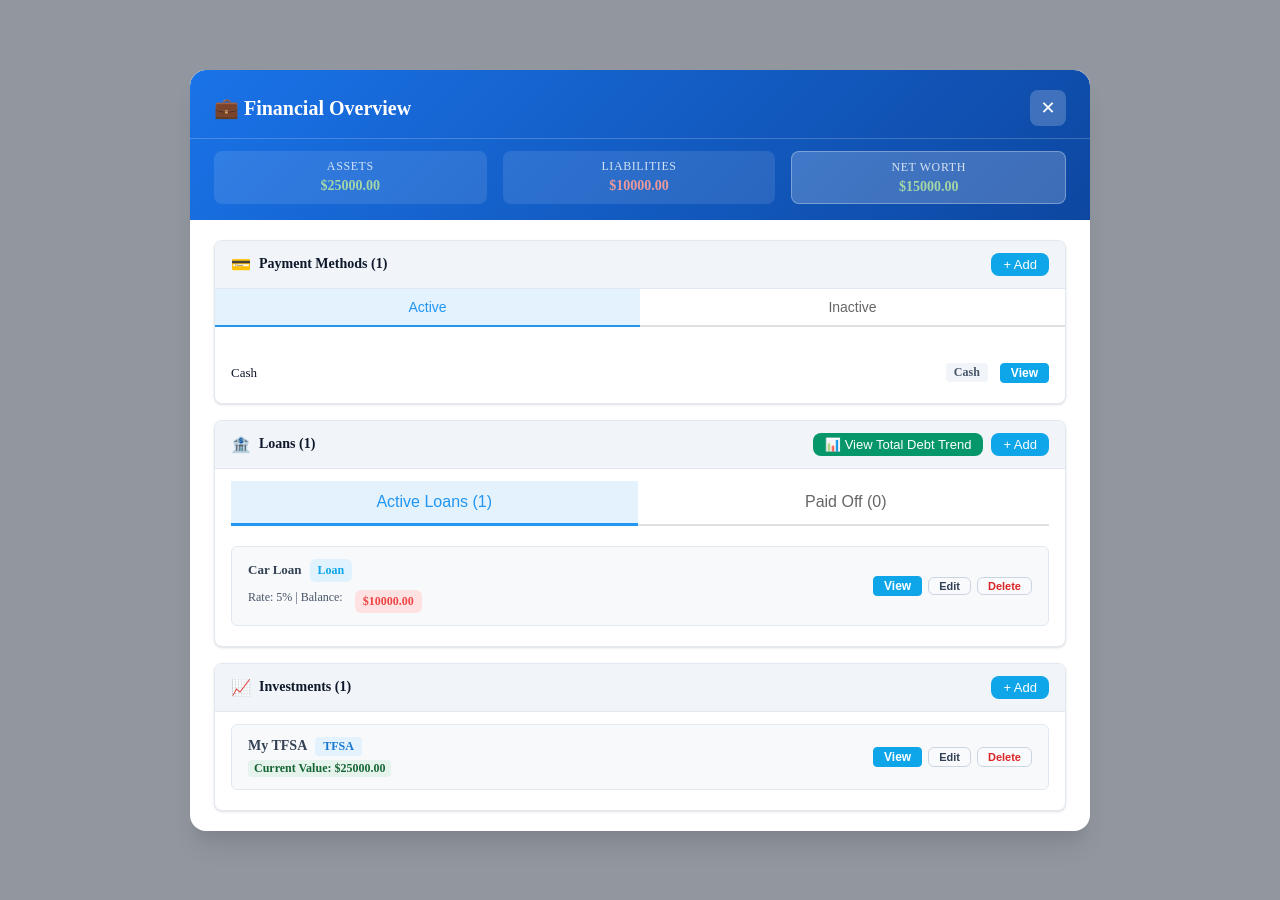
Test: FinancialOverviewModal › Add buttons open correct forms (Req 10.2, 10.3, 10.4) › should open loan creation form when Add button in loans section is clicked
Check: the element with test id "loans-section" is shown, box x1=214 y1=420 x2=1066 y2=646
Click the 2nd button with class "financial-section-add-button".
click(1020, 444)  # box x1=991 y1=432 x2=1049 y2=456
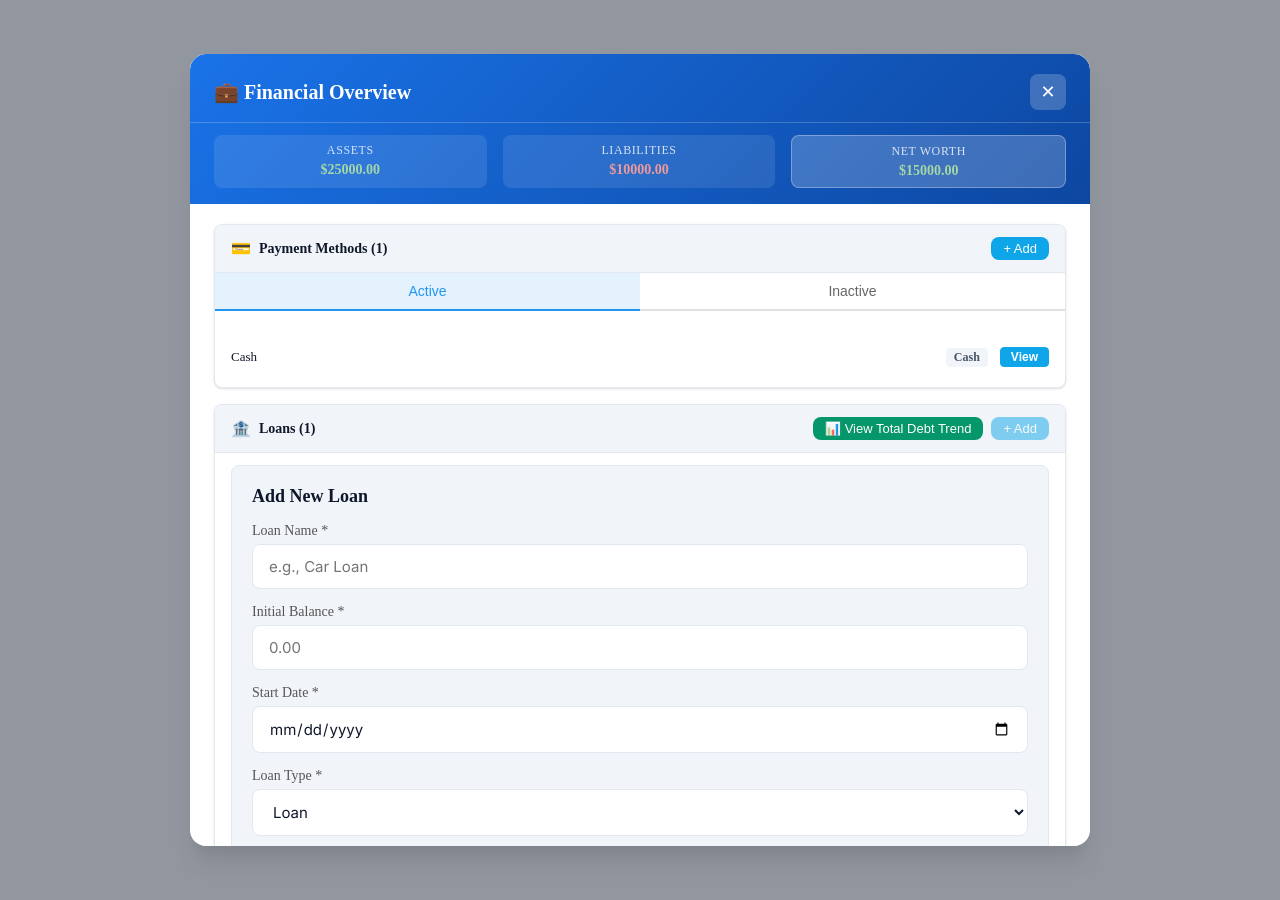
Check: the heading "Add New Loan" is shown, box x1=252 y1=486 x2=368 y2=506
Check: the text "Loan Name *" is shown, box x1=252 y1=523 x2=328 y2=538
